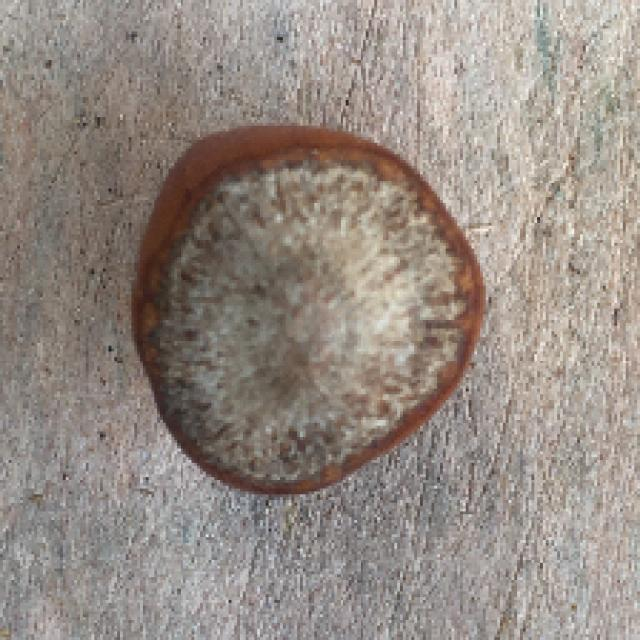QualityHazelnut: (134, 122, 487, 502)
